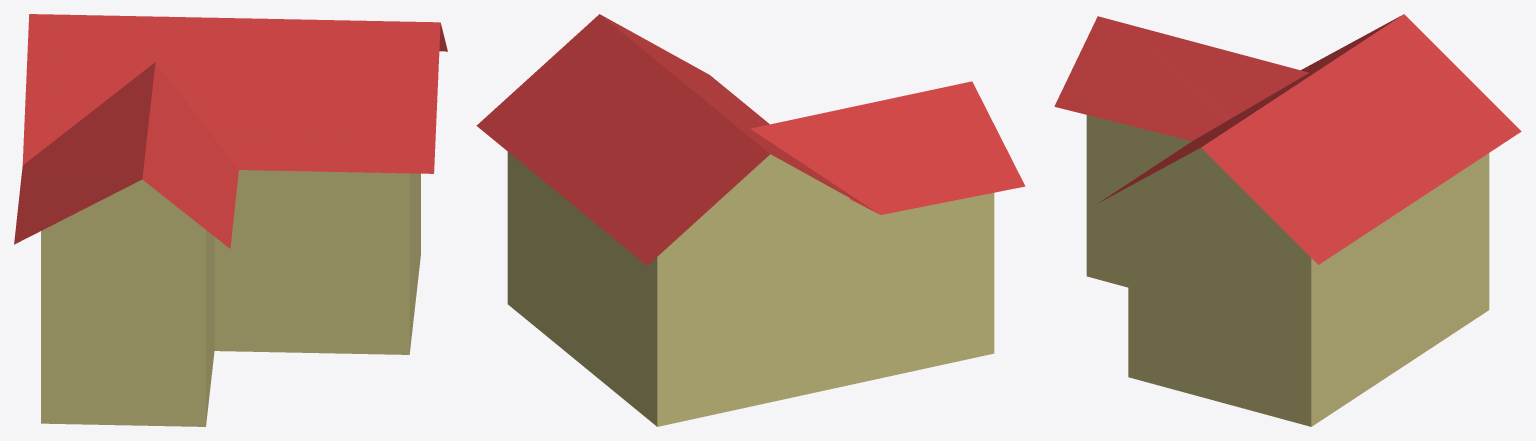
3 renders of one model, left to right at view 1: azimuth 30°, elevation 25°; view 2: azimuth 150°, elevation 25°; view 3: azimuth 270°, elevation 25°, orthographic. The views are drawn at different scales.
Visible parts, largest first — view 1: group_8, group_6, group_10, group_3, group_9, group_5; view 2: group_10, group_8, group_6, group_3, group_9, group_5; view 3: group_10, group_8, group_3, group_6, group_9, group_5.
Boxes of the visible parts, x1,y1,x2,y2 form: group_8: [24, 14, 447, 173]; group_6: [41, 179, 222, 426]; group_10: [223, 170, 420, 354]; group_3: [14, 62, 238, 248]; group_9: [22, 14, 447, 173]; group_5: [15, 140, 238, 245]; group_10: [507, 152, 850, 426]; group_8: [476, 14, 852, 265]; group_6: [849, 193, 994, 384]; group_3: [750, 81, 1025, 214]; group_9: [479, 15, 878, 264]; group_5: [882, 82, 1021, 214]; group_10: [1128, 148, 1489, 426]; group_8: [1102, 14, 1521, 264]; group_3: [1054, 16, 1308, 141]; group_6: [1086, 115, 1191, 287]; group_9: [1099, 15, 1520, 262]; group_5: [1055, 18, 1223, 140].
Size of the model in its own units: 17.52 by 14.95 by 9.22.
